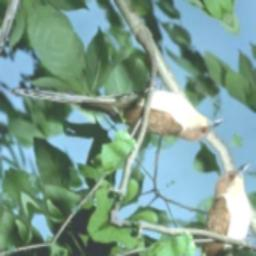Cuckoo: (6, 0, 232, 218)
